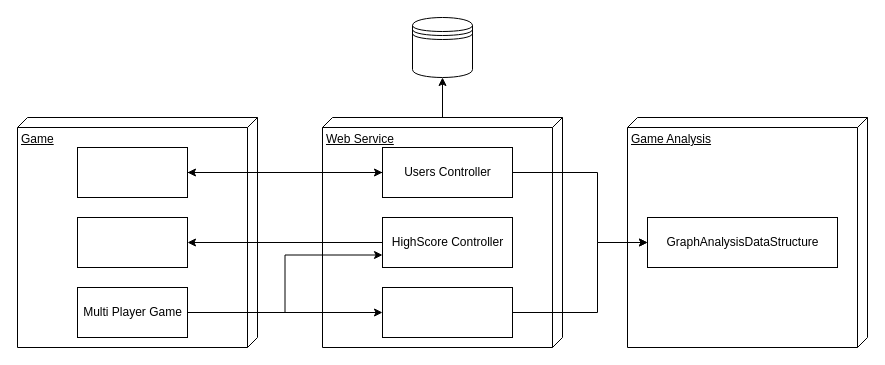
The diagram is 885 pixels wide and 365 high, and some of its shapes have lost their labels. The shapes that lost their labels are listed below. From the top down, each one's centre as x and y in pixels, then its label:
At point (132, 172): "Register/Login".
At point (132, 242): "HighScore".
At point (447, 312): "Game Scores Controller".
